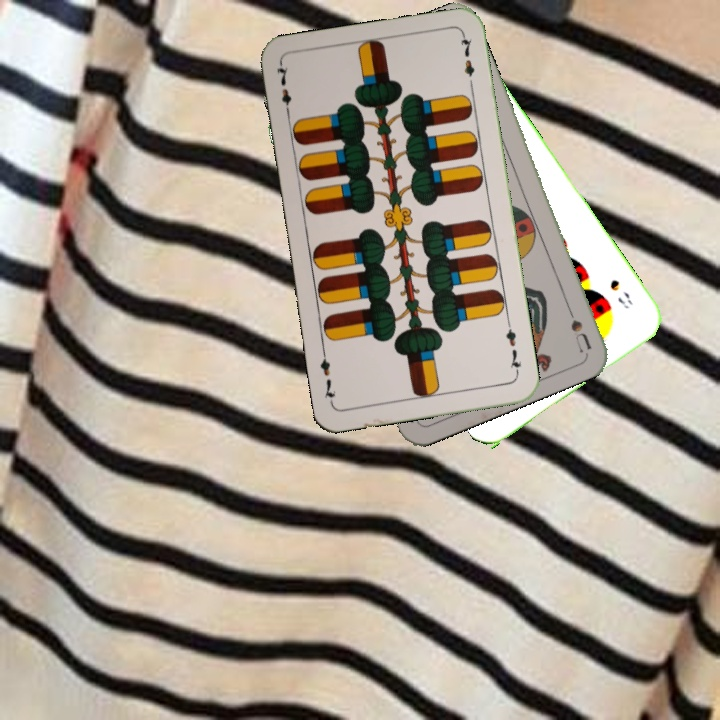E7: (501, 319, 524, 378), (272, 61, 294, 120)
S8: (606, 275, 636, 312)
SU: (560, 296, 594, 354)
